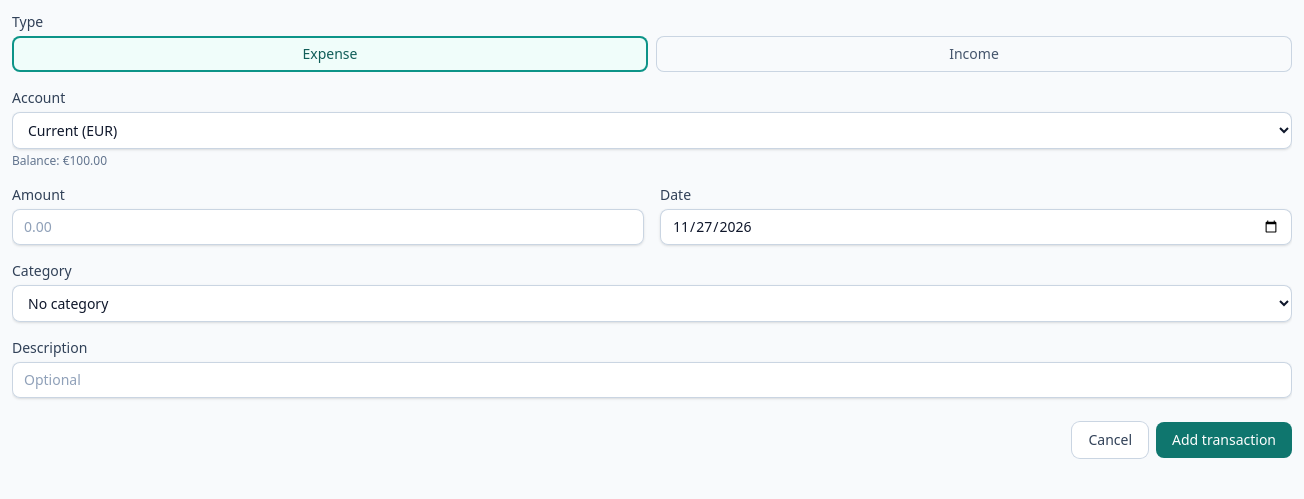
Test: TransactionForm › shows "insufficient funds" on the amount field
This screenshot has width=1304, height=499.
Type "500" into the field labelled "Amount" at [328, 227], box top-left (12, 209), bottom-right (644, 245)
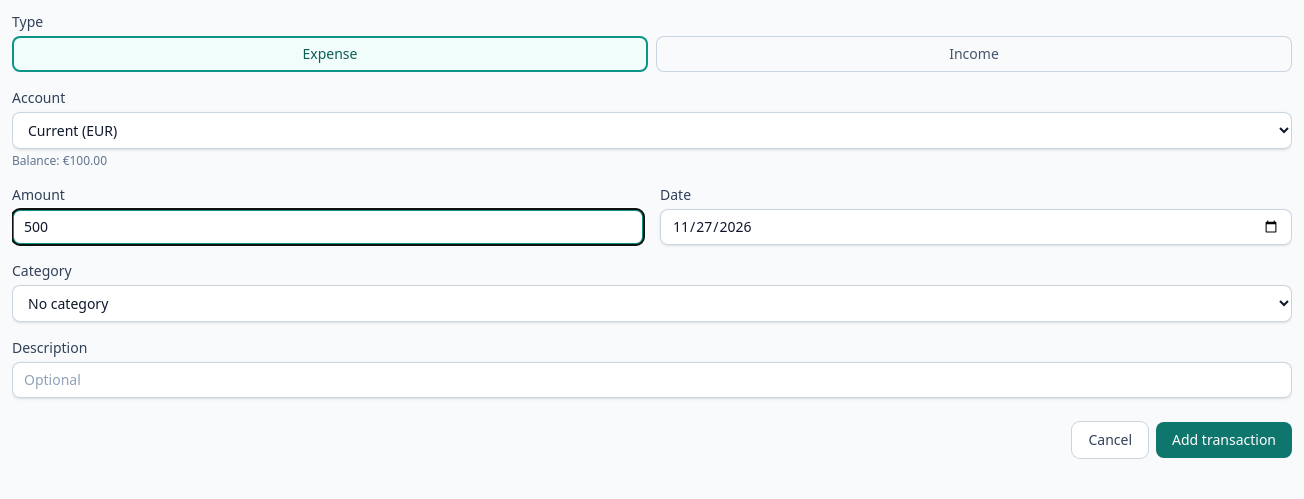
Click the button "Add transaction" at [1224, 440], box top-left (1156, 422), bottom-right (1292, 458)
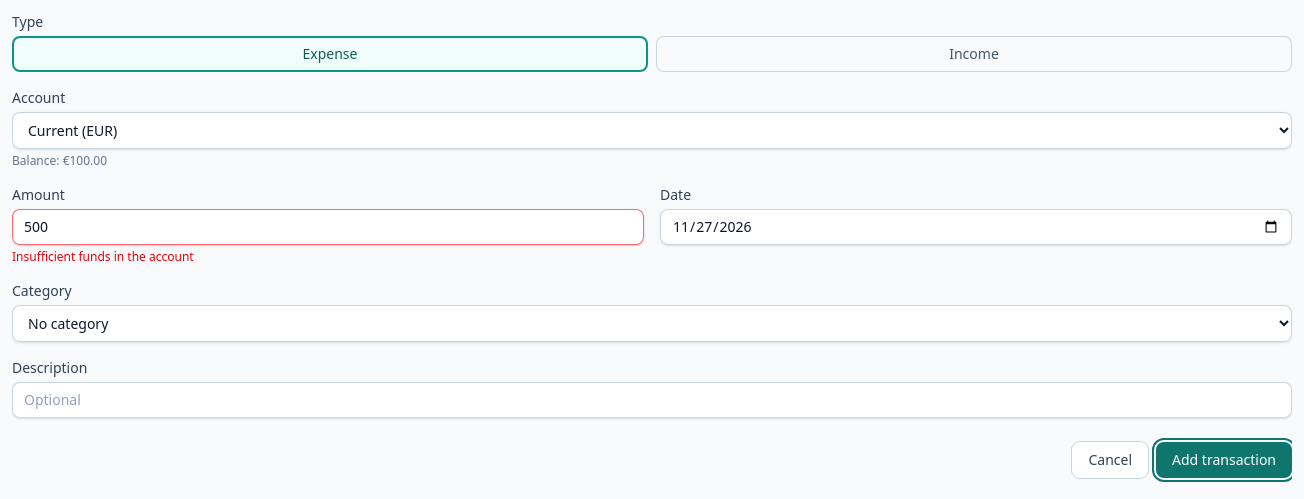
Result: the text "Insufficient funds in the account" is shown at top-left (12, 248), bottom-right (194, 265)
